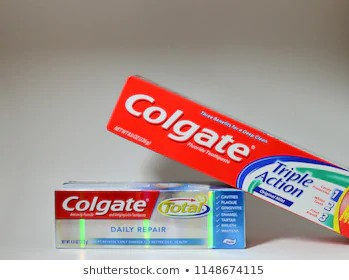colgate-medium: (55, 180, 245, 249)
